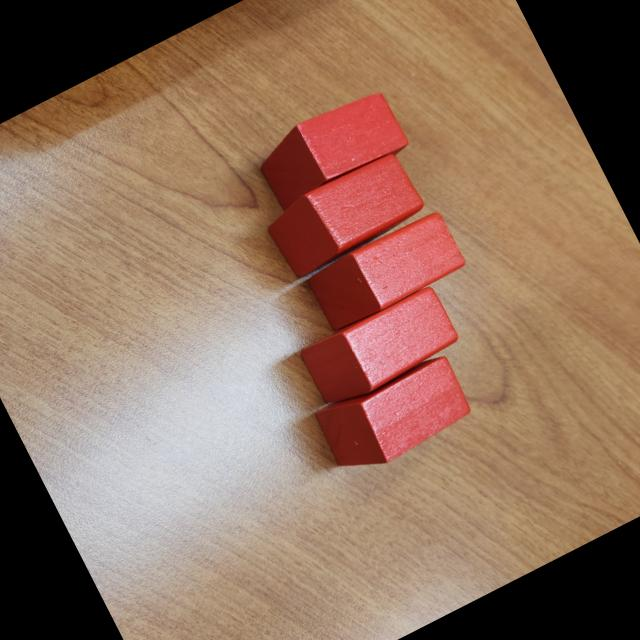red: (258, 146, 432, 282), (243, 78, 415, 215), (310, 348, 478, 485), (299, 282, 464, 413), (305, 204, 471, 334)
